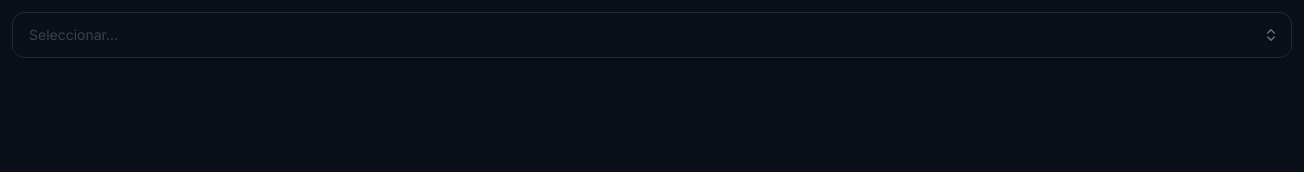
Test: SmartCombobox › muestra mensaje cuando no hay coincidencias
The image size is (1304, 172).
Type "xyz" into the dropdown. click: [652, 35]
box: [13,13,1291,57]
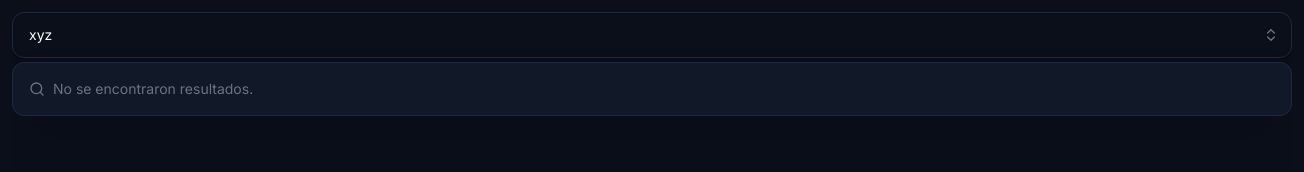
Result: the text "No se encontraron resultados." is shown at [29,80,253,97]
